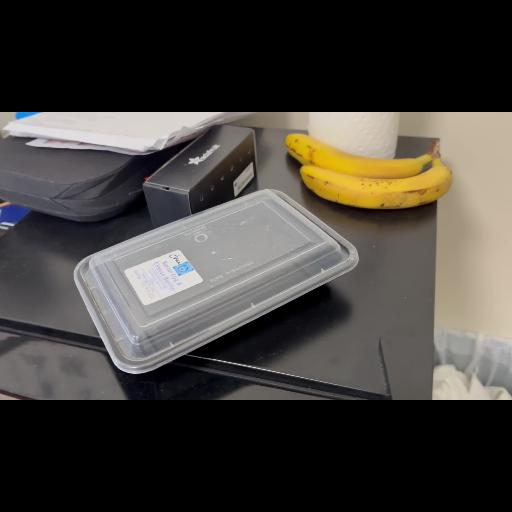rigid_plastic_container: (78, 188, 352, 372)
